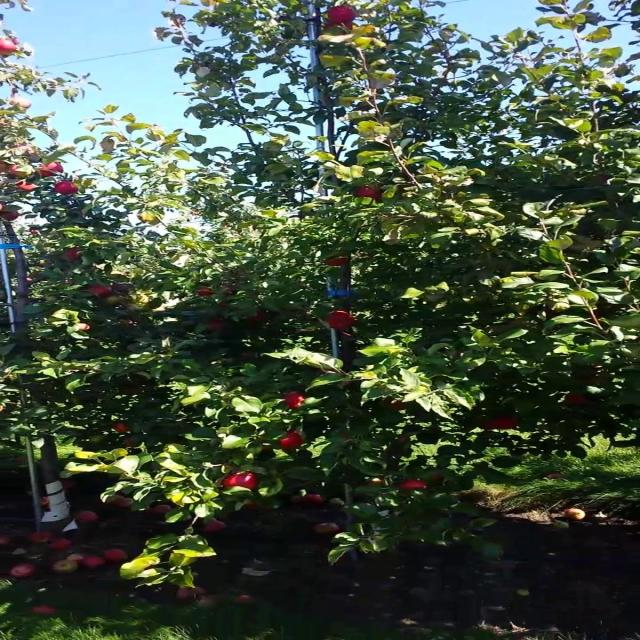apple: (220, 472, 261, 491), (276, 432, 306, 452), (326, 312, 357, 331), (284, 392, 311, 412), (490, 416, 521, 432), (561, 392, 594, 407), (326, 8, 357, 22), (397, 480, 430, 493), (355, 188, 384, 201), (383, 400, 411, 412), (476, 416, 496, 432), (205, 320, 228, 332), (56, 184, 78, 196), (326, 256, 348, 268), (13, 144, 37, 155), (63, 248, 82, 261), (42, 164, 64, 175), (426, 472, 446, 484), (241, 312, 267, 321), (326, 24, 356, 31), (6, 40, 20, 54), (13, 100, 34, 109), (13, 164, 28, 176), (92, 288, 114, 296), (113, 424, 132, 433), (120, 388, 144, 395), (198, 288, 215, 297), (42, 168, 62, 175), (20, 184, 36, 192), (6, 212, 21, 220), (77, 324, 92, 332), (127, 440, 140, 448)
